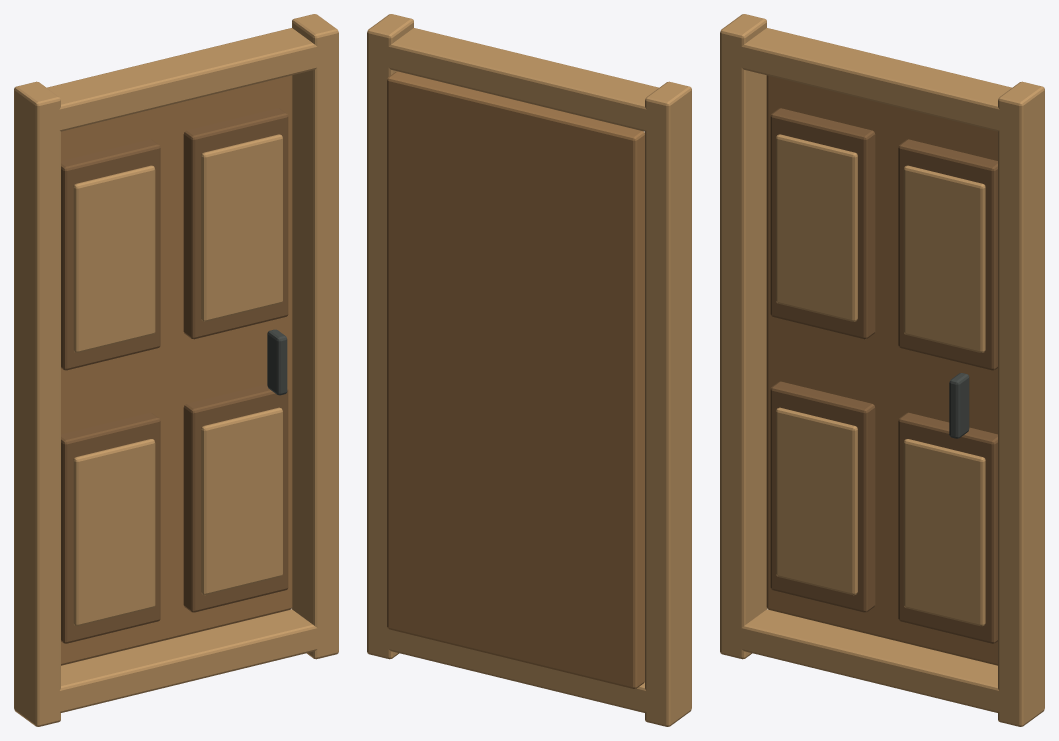
The model's file is SM_PlayerHouse_FrontDoor.fbx.
The picture shows the model from 3 angles, left to right: view 1: azimuth 30°, elevation 25°; view 2: azimuth 150°, elevation 25°; view 3: azimuth 330°, elevation 25°; orthographic projection.
Visible parts, largest first — view 1: SM_PlayerHouse_FrontDoor; view 2: SM_PlayerHouse_FrontDoor; view 3: SM_PlayerHouse_FrontDoor.
Part boxes in pixels (bbox=[...]): SM_PlayerHouse_FrontDoor: bbox=[14, 14, 338, 726]; SM_PlayerHouse_FrontDoor: bbox=[367, 14, 691, 726]; SM_PlayerHouse_FrontDoor: bbox=[720, 14, 1044, 726].
Size of what is drawn, in the model's own units: 131 by 27.5 by 258.
